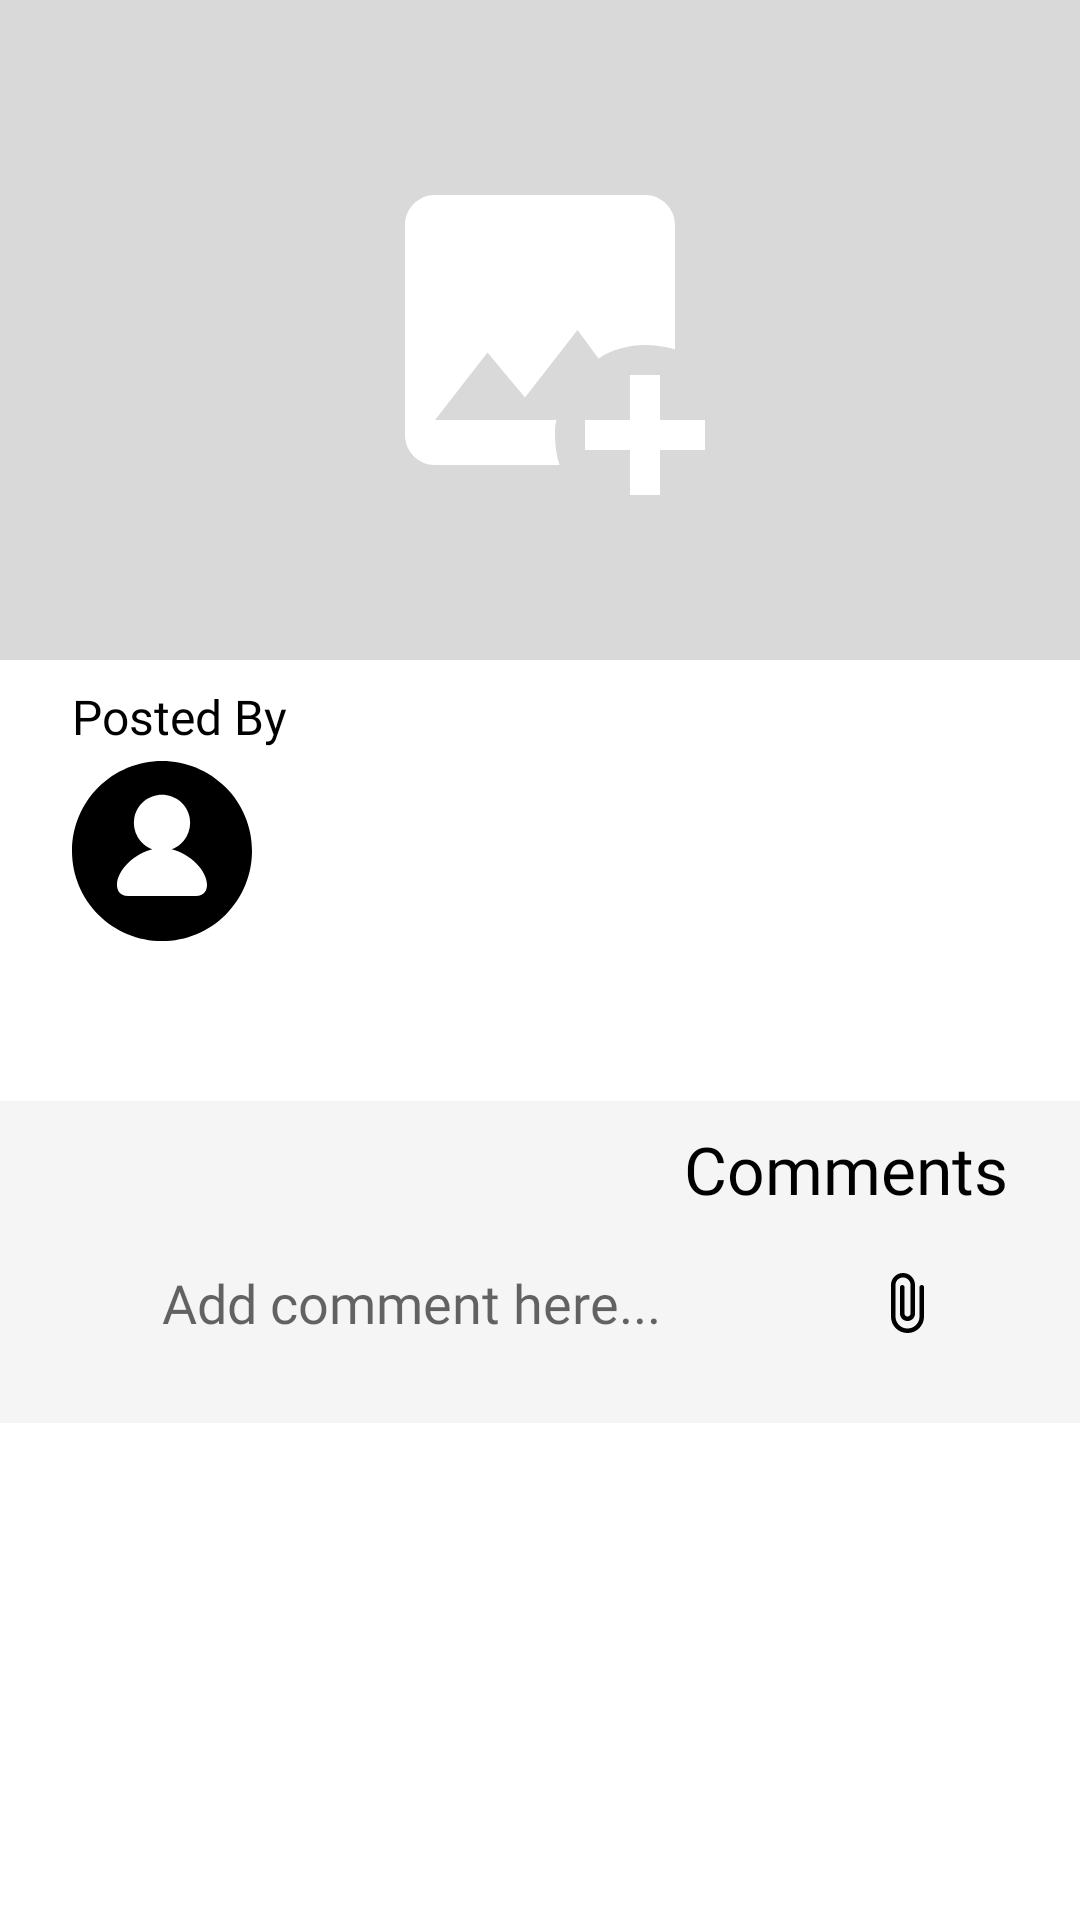

Icon click points for this 1080*1920 phone screenshot, format point (x, y):
empty profile: point (162, 851)
